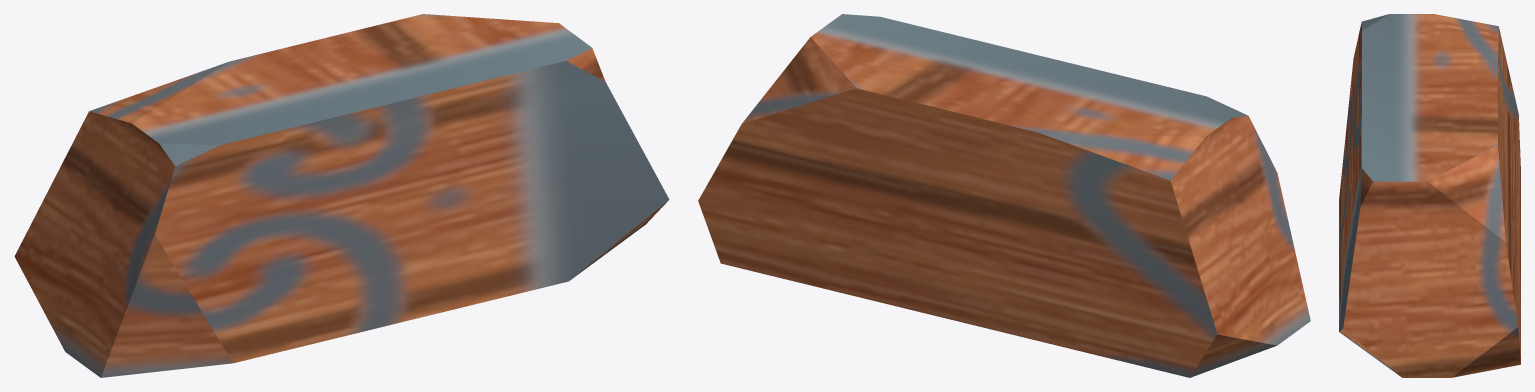
The model's file is Kamen_normal7.fbx.
The picture shows the model from 3 angles, left to right: view 1: azimuth 30°, elevation 25°; view 2: azimuth 150°, elevation 25°; view 3: azimuth 270°, elevation 25°; orthographic projection. The views are drawn at different scales.
Visible parts, largest first — view 1: Kamen_normal7; view 2: Kamen_normal7; view 3: Kamen_normal7.
Part boxes in pixels (x1,y1,x2,y2): Kamen_normal7: [14, 14, 669, 377]; Kamen_normal7: [698, 14, 1310, 377]; Kamen_normal7: [1339, 14, 1520, 377].
Size of the model in its own units: 22.18 by 7.78 by 7.61.
